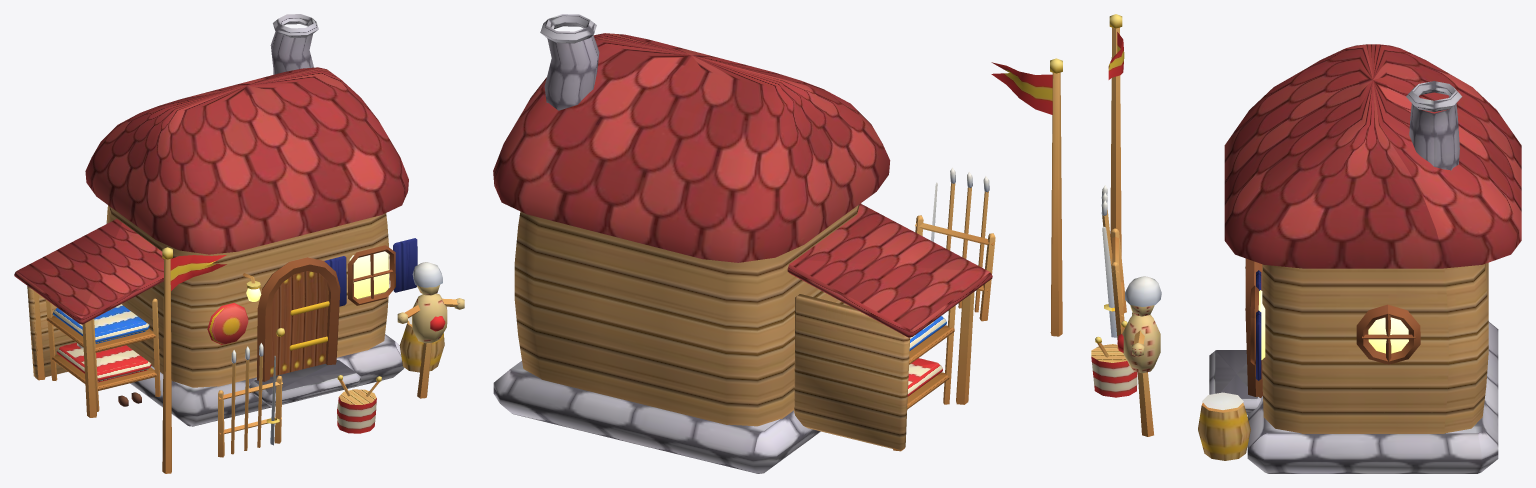
File: barracks.glb
3 renders of one model, left to right at view 1: azimuth 30°, elevation 25°; view 2: azimuth 150°, elevation 25°; view 3: azimuth 270°, elevation 25°, orthographic. The views are drawn at different scales.
Parts seen in each view (by area): view 1: barracks; view 2: barracks; view 3: barracks.
Boxes of the visible parts, x1,y1,x2,y2 form: barracks: [14, 14, 464, 473]; barracks: [493, 14, 1062, 473]; barracks: [1091, 14, 1521, 473].
Bounding box in the file's own units: 7.19 × 6.31 × 6.7.
Materials: 4 (4 with a texture image).
